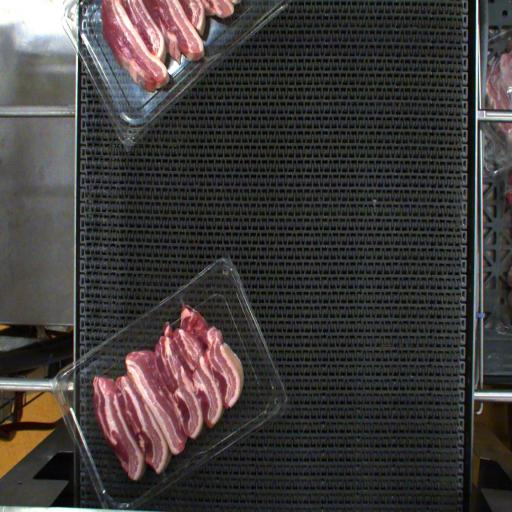packaging-error: (172, 286, 194, 314)
